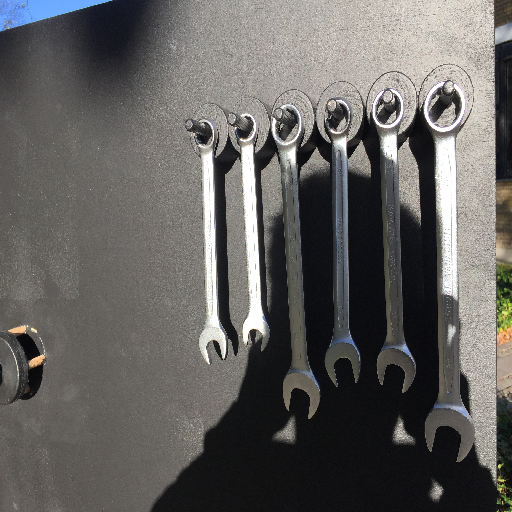bottom: (423, 400, 477, 464), (281, 367, 322, 423), (375, 342, 418, 395), (323, 336, 363, 387), (197, 324, 229, 366), (241, 312, 271, 353)
top: (420, 80, 467, 137), (270, 104, 306, 148), (370, 88, 405, 131), (323, 98, 352, 138), (190, 118, 220, 153), (234, 113, 258, 143)
